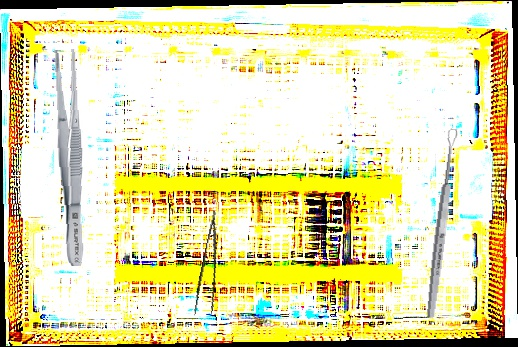Dressing Forceps: (50, 48, 90, 267)
Surgical Spoon: (424, 127, 460, 320)
Tissue Forceps: (191, 211, 233, 320)
